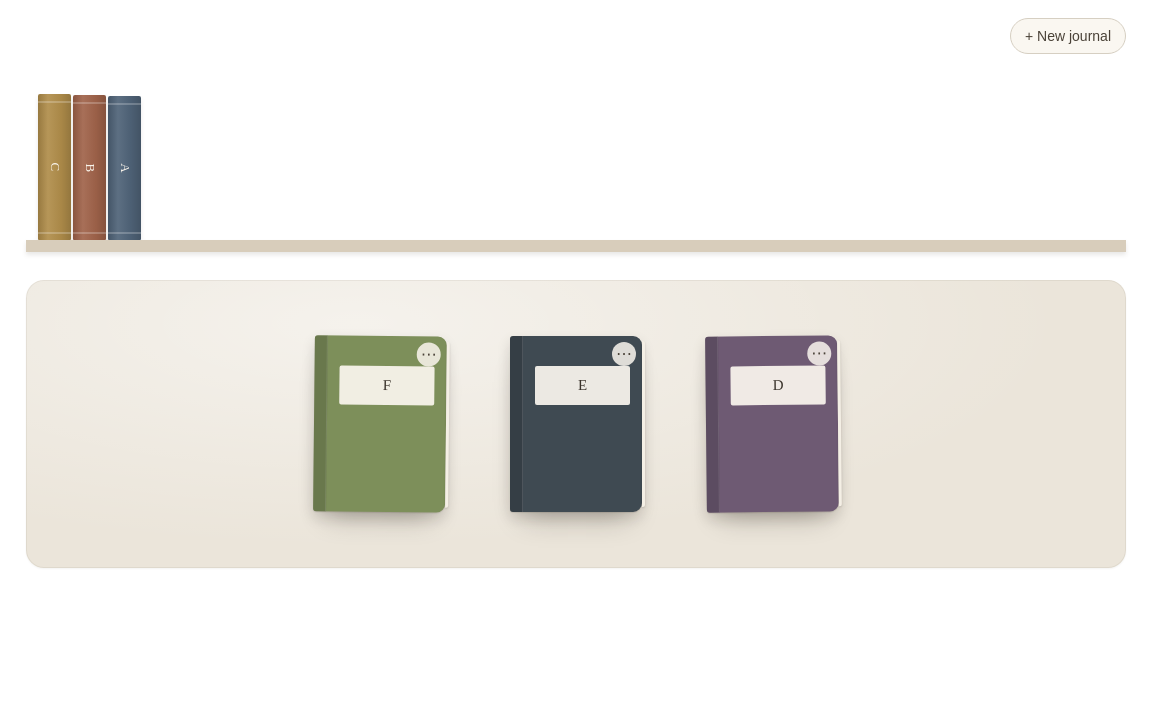
new journal › creates a task list with the trimmed name
Click the button "+ New journal". click: x=1068, y=36
box: [1010, 18, 1126, 54]
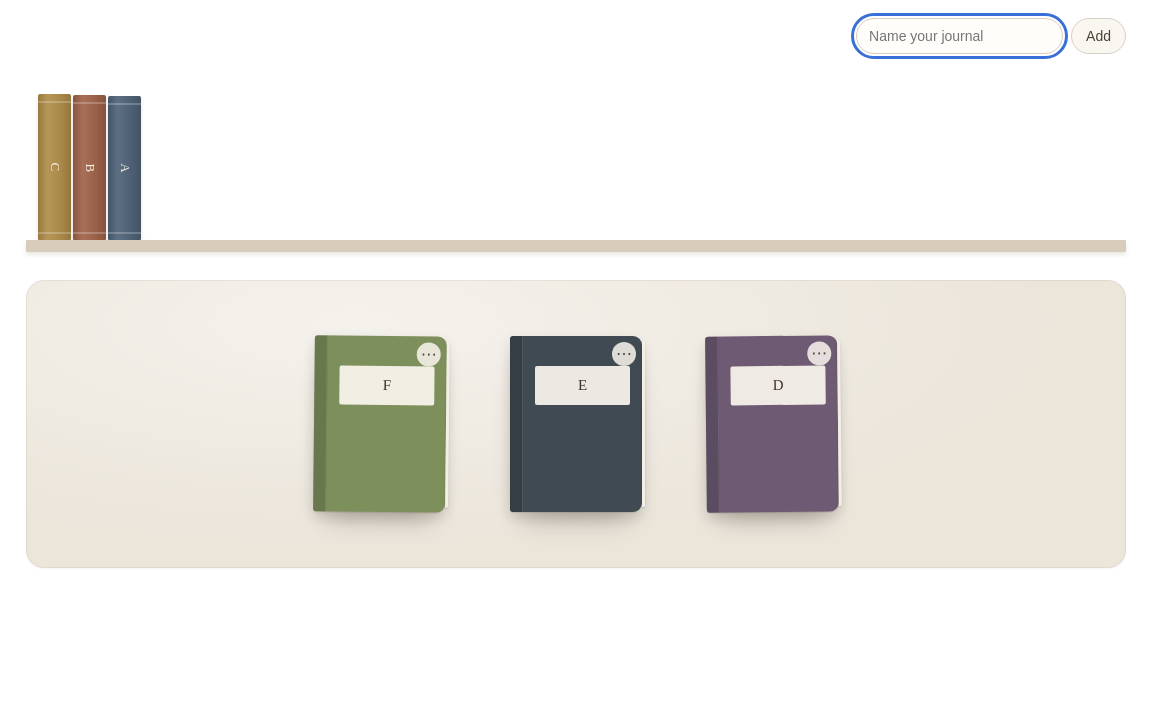
Type "  Ideas  " into the field named "New journal name". click: x=960, y=36
box: [856, 18, 1063, 54]
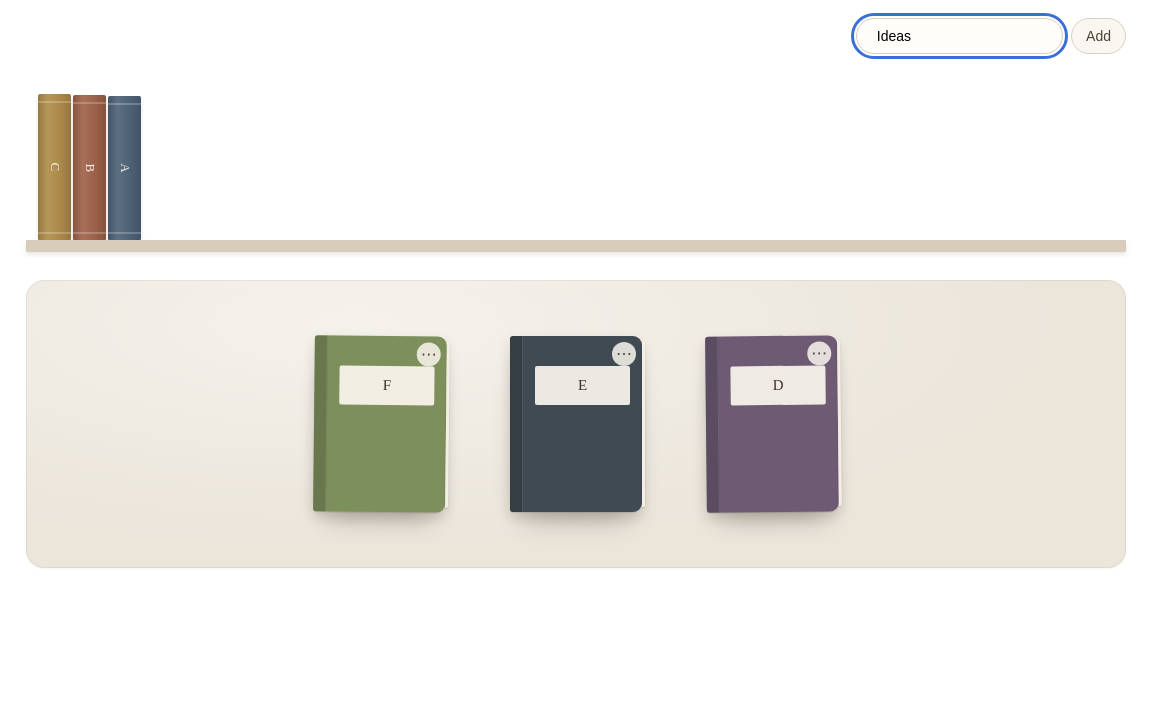
Submit the form named "New journal name", box [856, 18, 1126, 54]
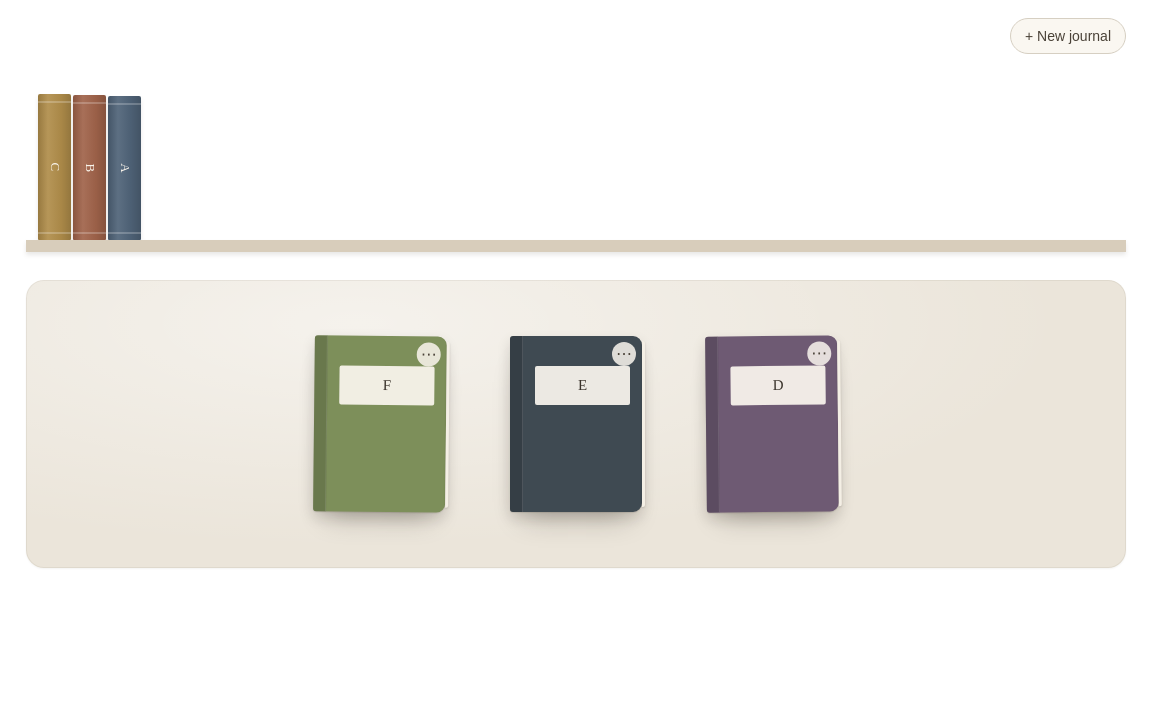
Expected: the button "+ New journal" is shown, [1010, 18, 1126, 54]
